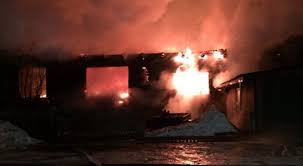fire: (141, 46, 238, 111)
